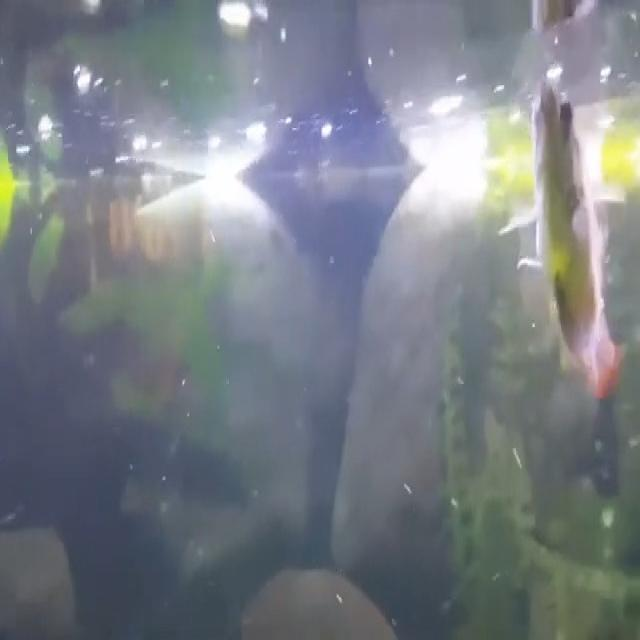fish: (506, 68, 640, 457)
